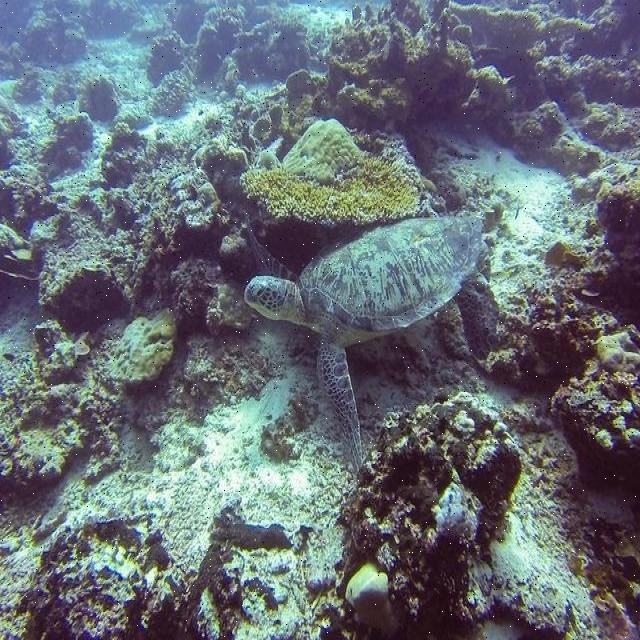fish: (244, 215, 482, 475)
sea-floor: (317, 384, 523, 639), (478, 176, 639, 452)
